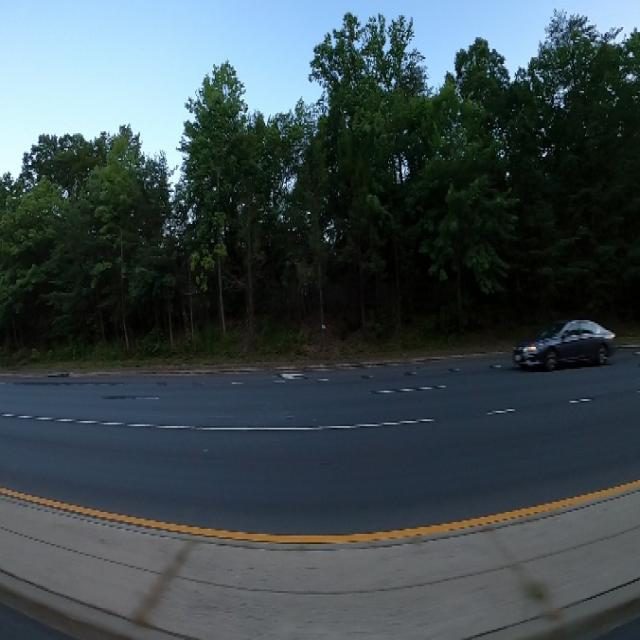cars: (506, 304, 624, 388)
